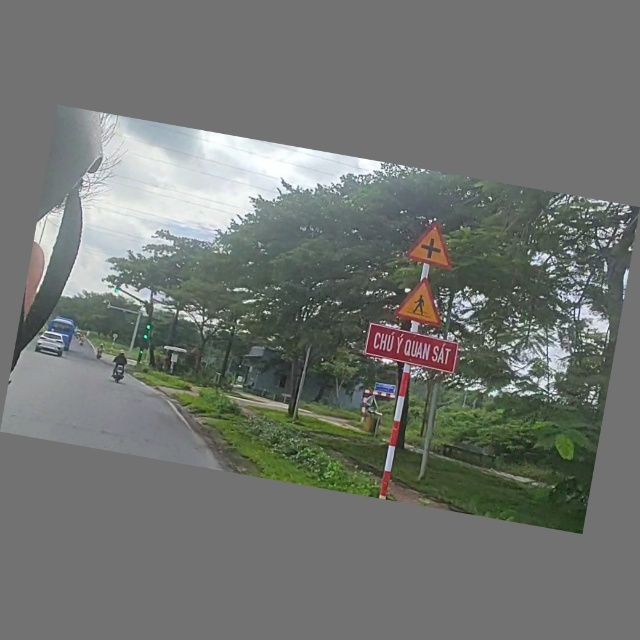W.205a: (405, 219, 464, 274)
W.224: (393, 274, 454, 331)
